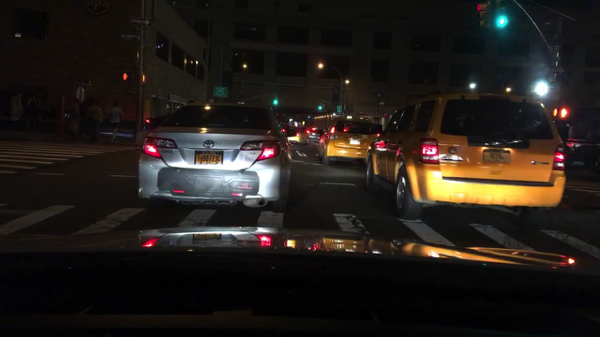car: (365, 89, 565, 230), (137, 102, 297, 214), (317, 116, 383, 168), (562, 136, 598, 172), (144, 114, 169, 137), (286, 128, 309, 147), (306, 126, 324, 140)
person: (107, 102, 124, 145), (27, 90, 44, 132), (8, 90, 25, 131), (87, 102, 102, 144), (68, 98, 81, 144)
traffic light: (476, 1, 490, 30), (496, 1, 506, 27), (122, 71, 133, 81), (560, 108, 567, 118), (552, 108, 559, 116), (141, 74, 146, 83), (273, 98, 277, 105), (318, 103, 322, 110)
traffic sign: (130, 17, 152, 27), (549, 34, 559, 55), (543, 65, 565, 74), (214, 86, 228, 97), (76, 86, 84, 102), (121, 34, 139, 41), (375, 93, 384, 105), (336, 105, 342, 113), (127, 90, 136, 92)
